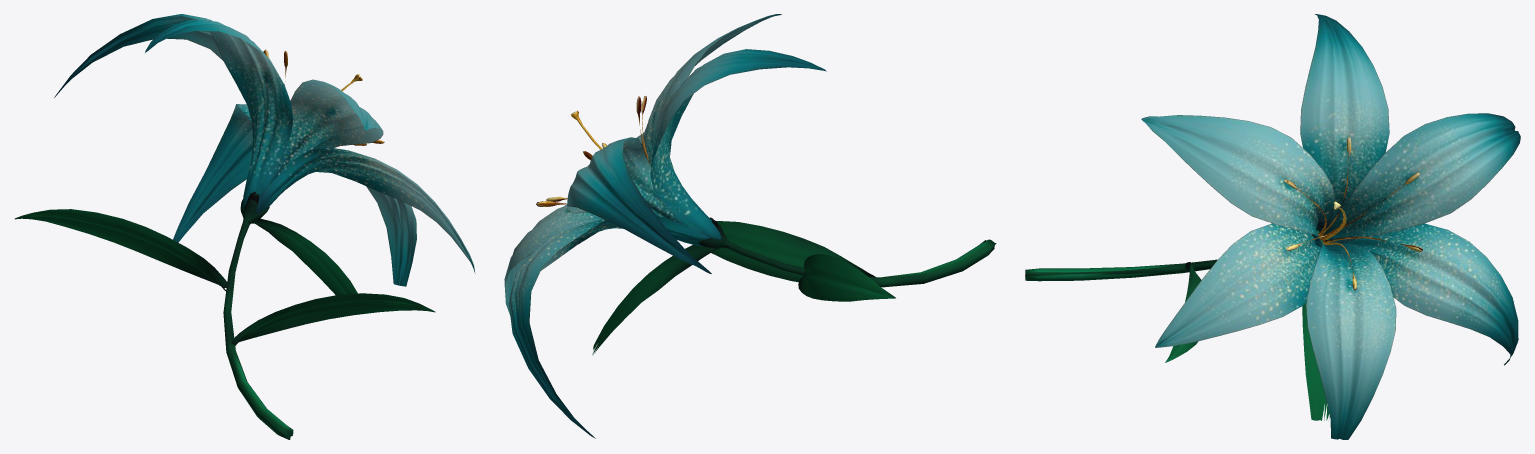
The picture shows the model from 3 angles, left to right: view 1: azimuth 30°, elevation 25°; view 2: azimuth 150°, elevation 25°; view 3: azimuth 270°, elevation 25°; orthographic projection. The views are drawn at different scales.
Parts seen in each view (by area): view 1: 2eef50c0; view 2: 2eef50c0; view 3: 2eef50c0.
Boxes of the visible parts, x1,y1,x2,y2 form: 2eef50c0: (15,14,475,439); 2eef50c0: (504,14,996,438); 2eef50c0: (1025,14,1520,439).
Size of the model in its own units: 0.1239 by 0.1018 by 0.1453.
1 material, 1 textured.
